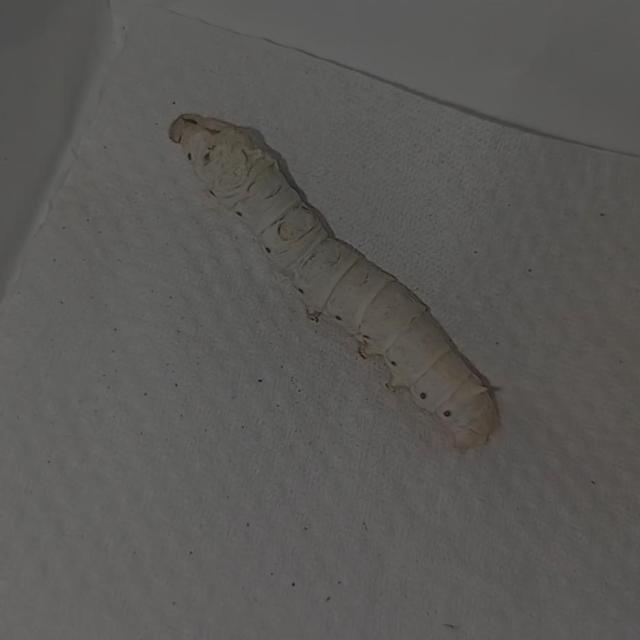Healthy: (158, 106, 505, 460)
